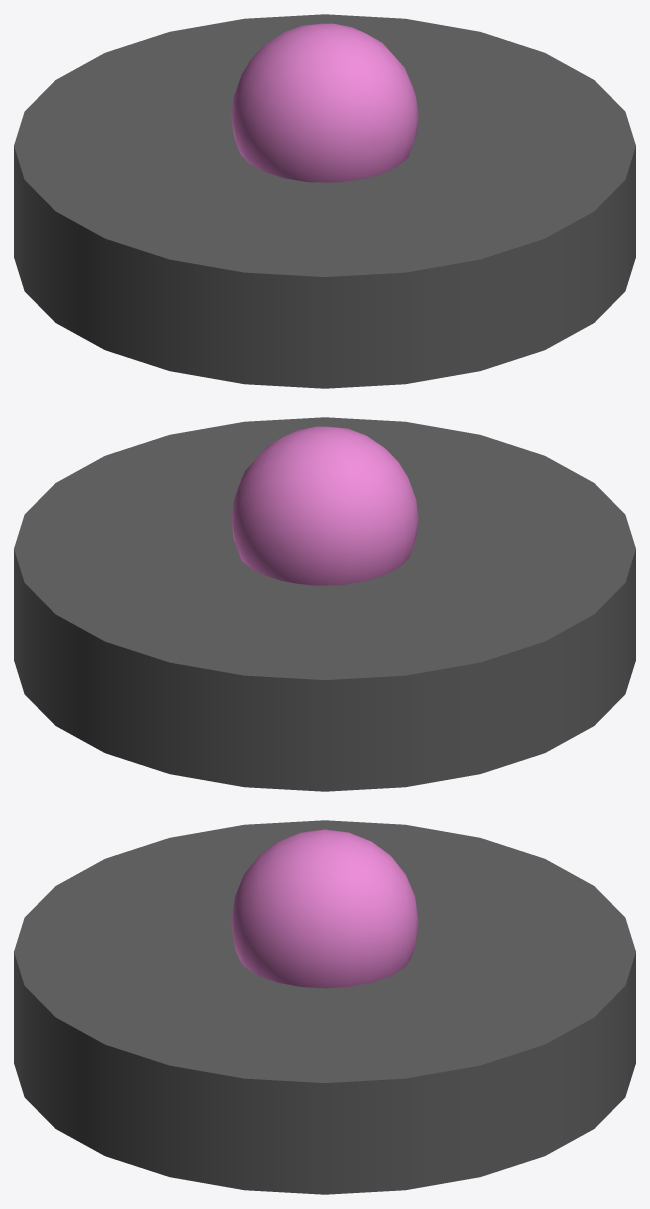
Rendered from gems_opal_1.obj.
The picture shows the model from 3 angles, top to bottom: view 1: azimuth 30°, elevation 25°; view 2: azimuth 150°, elevation 25°; view 3: azimuth 270°, elevation 25°; orthographic projection.
Visible parts, largest first — view 1: mergedBlocks; view 2: mergedBlocks; view 3: mergedBlocks.
Part boxes in pixels (x1=…): mergedBlocks: x1=14, y1=14, x2=635, y2=388; mergedBlocks: x1=14, y1=417, x2=635, y2=791; mergedBlocks: x1=14, y1=820, x2=635, y2=1194.
Size of the model in its own units: 1 by 0.4 by 1.
